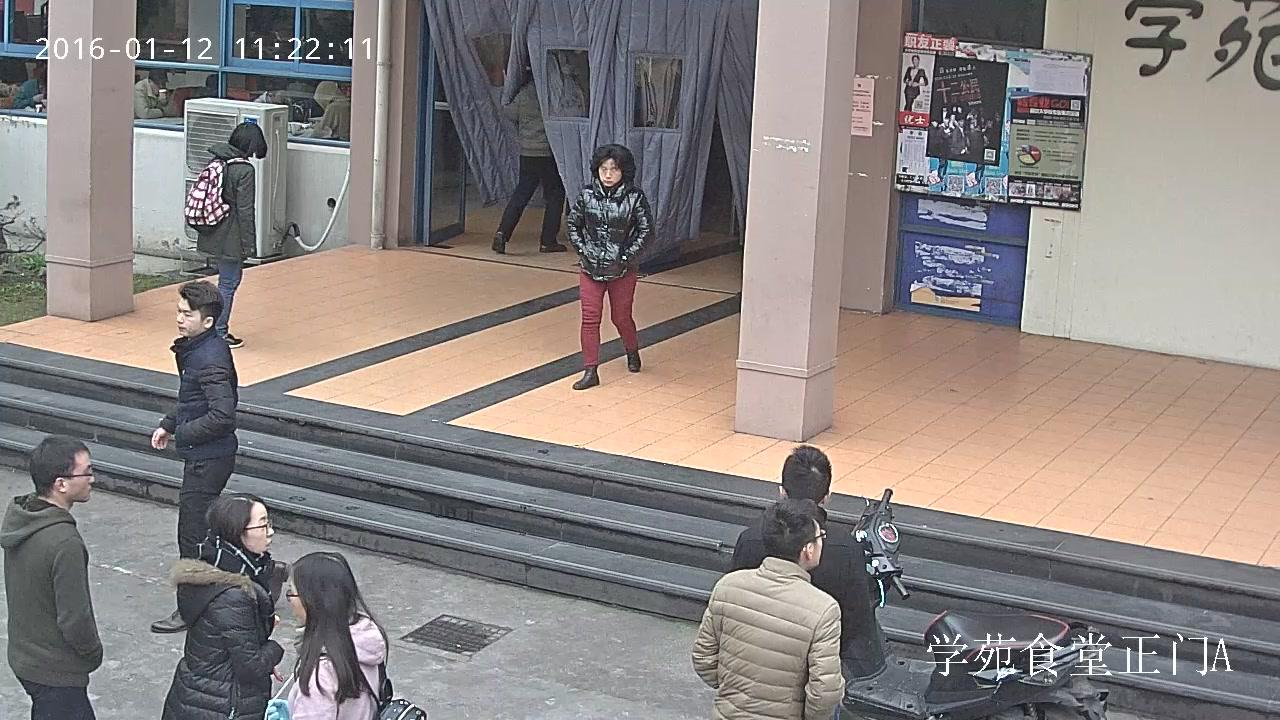person: (692, 499, 845, 720), (150, 280, 237, 633), (0, 434, 104, 720), (159, 492, 288, 720), (730, 445, 865, 657), (262, 550, 426, 720), (566, 144, 653, 390), (183, 123, 267, 350), (491, 75, 566, 253), (298, 80, 351, 142), (254, 79, 298, 128), (133, 68, 169, 119), (12, 64, 47, 112), (903, 56, 928, 112)
